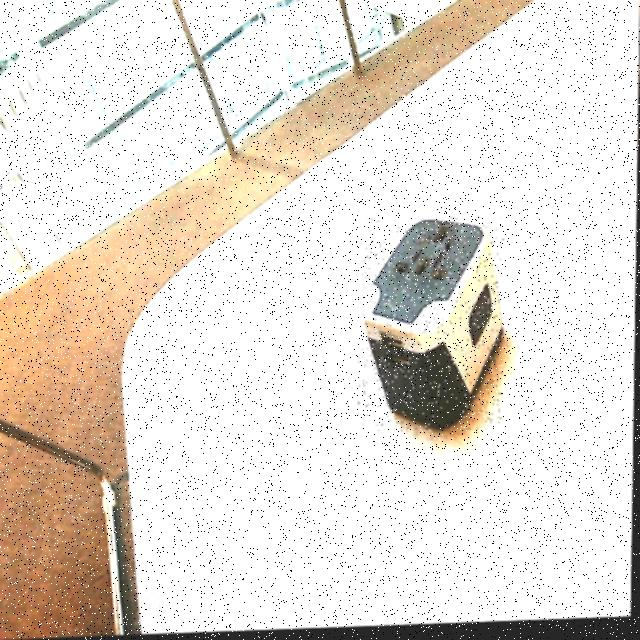adapter: (359, 215, 506, 436)
